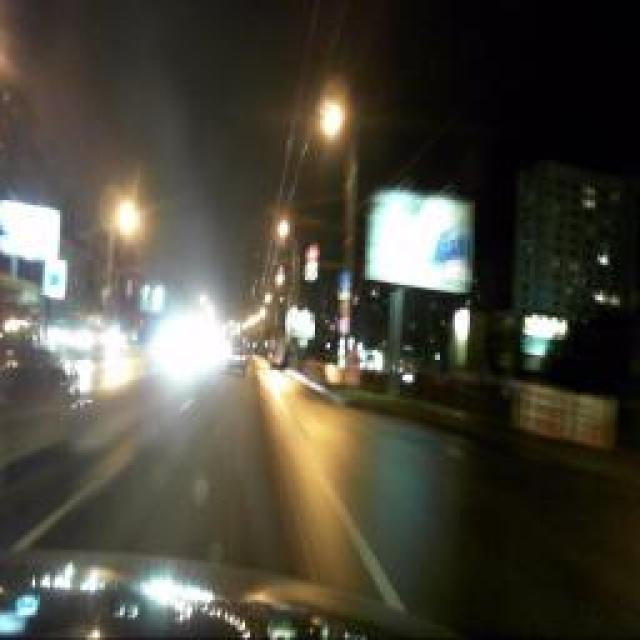sign: (308, 242, 320, 262)
